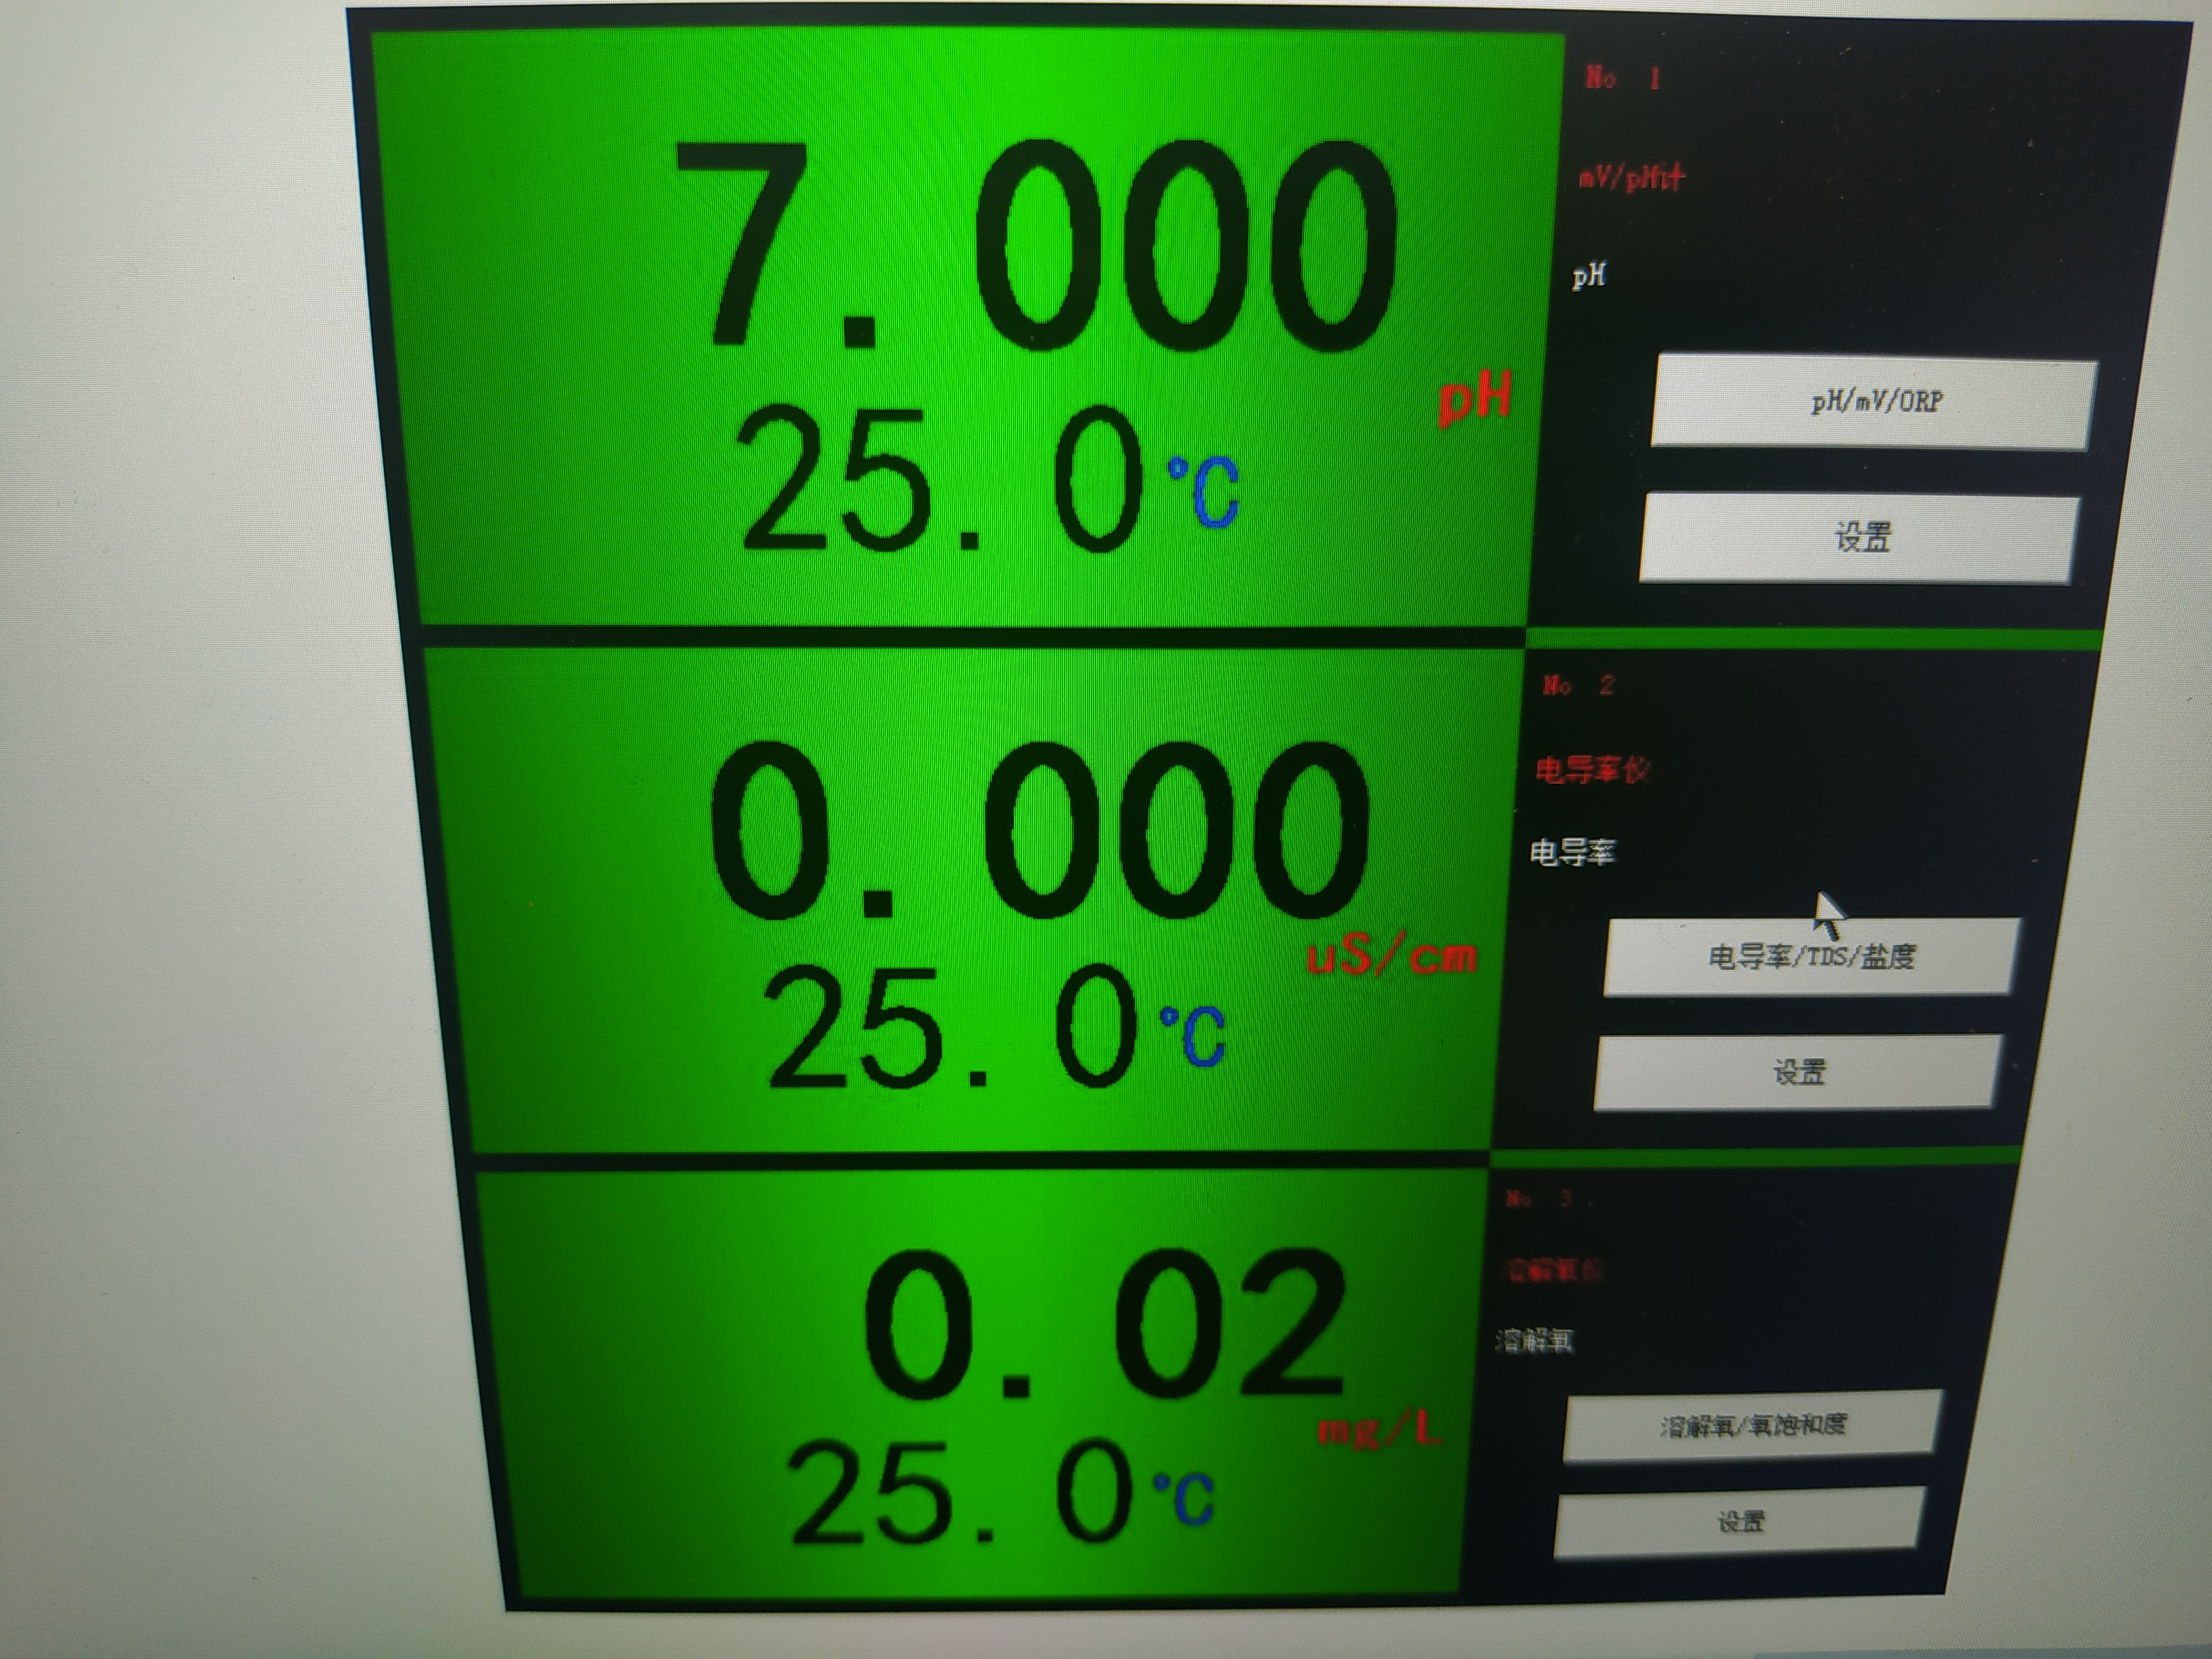.: (1115, 1248, 1223, 1401), (827, 139, 888, 350), (855, 741, 907, 929), (946, 403, 1000, 554), (998, 1249, 1038, 1401), (970, 1438, 1000, 1549), (970, 962, 993, 1093)
0: (972, 138, 1106, 356), (1123, 141, 1254, 350), (1273, 141, 1402, 350), (982, 739, 1108, 922), (1115, 741, 1240, 922), (712, 737, 831, 920), (1251, 742, 1371, 918), (866, 1248, 974, 1399), (1047, 406, 1146, 551), (1055, 960, 1137, 1093), (1055, 1438, 1134, 1544)
2: (1240, 1248, 1345, 1403), (726, 401, 833, 551), (754, 960, 853, 1098), (786, 1436, 860, 1549)
5: (838, 401, 930, 552), (855, 962, 944, 1094), (876, 1436, 954, 1551)
7: (672, 139, 806, 343)
